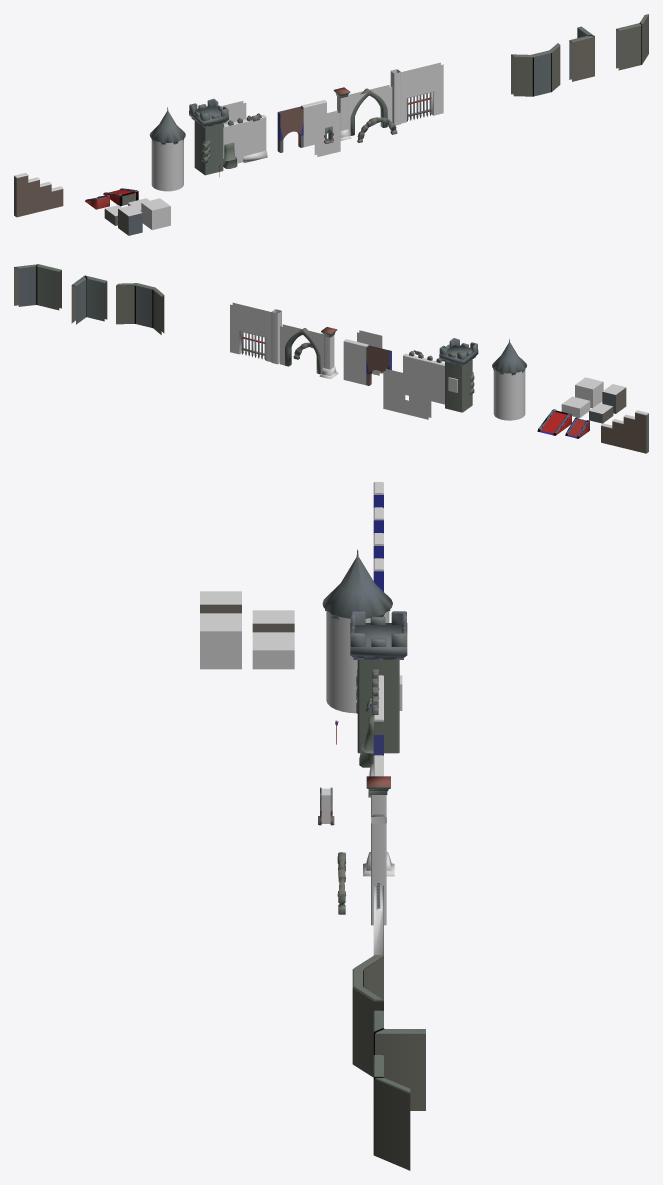
The model's file is castle_set_01.fbx.
3 views of the same model, one above another, from view 1: azimuth 30°, elevation 25°; view 2: azimuth 150°, elevation 25°; view 3: azimuth 270°, elevation 25° (orthographic). The views are drawn at different scales.
Visible parts, largest first — view 1: castle_wall_curve, wall_step, castle_spire_02, castle_wall_gate, castle_wall_single, castle_spire_01, castle_wall_45, castle_wall_corner, castle_wall_half_hole, castle_arch_wall_02, top, castle_arch_wall (+9 smaller); view 2: castle_wall_single_window, castle_wall_curve, castle_wall_45, castle_spire_02, wall_step, castle_wall_gate, castle_wall_corner, castle_spire_01, castle_wall_single, castle_wall_half, top, castle_arch_wall_02 (+10 smaller); view 3: castle_spire_01, castle_wall_45, castle_spire_02, castle_wall_corner, top, castle_wall_curve, top (2), platform_4x4x4, pillar_02, wall_step.
Part boxes in pixels (x1=…): castle_wall_curve: x1=511, y1=46, x2=560, y2=96; wall_step: x1=14, y1=173, x2=63, y2=217; castle_spire_02: x1=151, y1=139, x2=183, y2=191; castle_wall_gate: x1=401, y1=62, x2=443, y2=123; castle_wall_single: x1=223, y1=117, x2=266, y2=163; castle_spire_01: x1=194, y1=120, x2=223, y2=175; castle_wall_45: x1=616, y1=15, x2=648, y2=70; castle_wall_corner: x1=569, y1=29, x2=594, y2=81; castle_wall_half_hole: x1=314, y1=110, x2=340, y2=156; castle_arch_wall_02: x1=277, y1=106, x2=303, y2=152; top: x1=189, y1=99, x2=228, y2=126; castle_arch_wall: x1=347, y1=85, x2=392, y2=135; castle_wall_single_window: x1=383, y1=369, x2=431, y2=419; castle_wall_curve: x1=116, y1=285, x2=164, y2=334; castle_wall_45: x1=14, y1=267, x2=61, y2=310; castle_spire_02: x1=493, y1=370, x2=525, y2=420; wall_step: x1=601, y1=410, x2=648, y2=453; castle_wall_gate: x1=230, y1=302, x2=271, y2=362; castle_wall_corner: x1=71, y1=279, x2=107, y2=324; castle_spire_01: x1=445, y1=359, x2=472, y2=412; castle_wall_single: x1=403, y1=356, x2=444, y2=404; castle_wall_half: x1=343, y1=342, x2=366, y2=385; top: x1=439, y1=338, x2=478, y2=364; castle_arch_wall_02: x1=366, y1=345, x2=391, y2=385; castle_spire_01: x1=357, y1=659, x2=399, y2=753; castle_wall_45: x1=373, y1=1079, x2=410, y2=1170; castle_spire_02: x1=326, y1=611, x2=389, y2=713; castle_wall_corner: x1=373, y1=1034, x2=425, y2=1110; top: x1=350, y1=611, x2=407, y2=659; castle_wall_curve: x1=352, y1=957, x2=383, y2=1077; top (2): x1=322, y1=549, x2=392, y2=618; platform_4x4x4: x1=200, y1=631, x2=241, y2=669; pillar_02: x1=371, y1=817, x2=386, y2=925; wall_step: x1=373, y1=482, x2=383, y2=591.
Bounding box in the file's own units: 13750 × 1630 × 2500.
